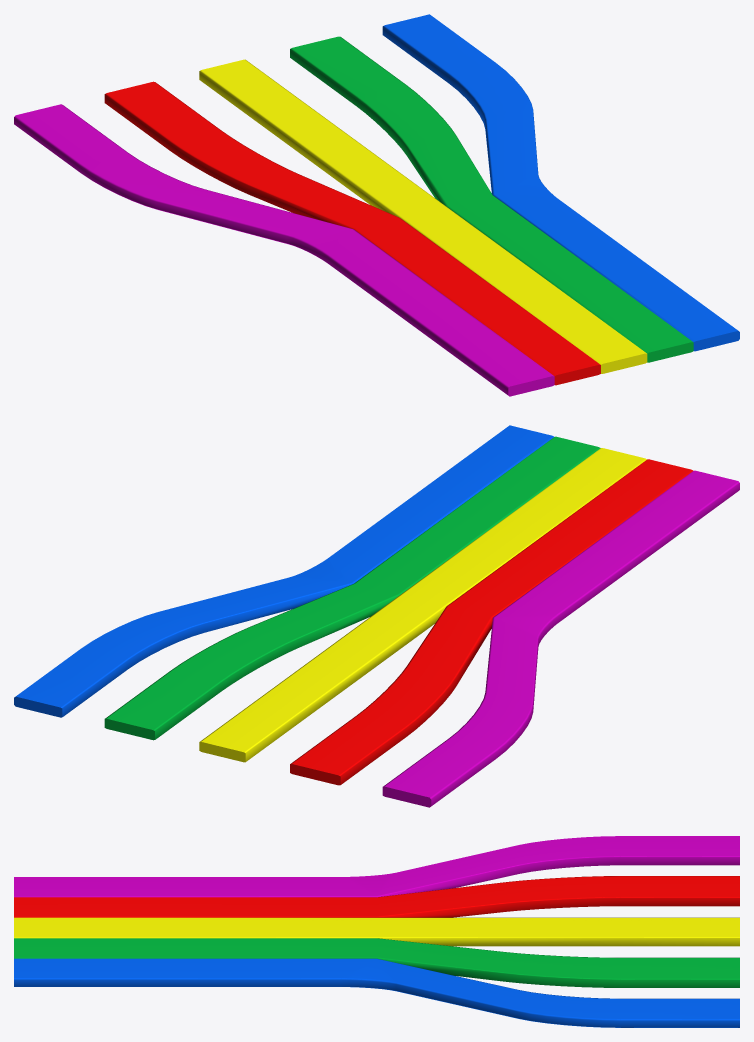
Rendered from platform_marmalade_003.glb.
3 renders of one model, top to bottom at view 1: azimuth 30°, elevation 25°; view 2: azimuth 150°, elevation 25°; view 3: azimuth 270°, elevation 25°, orthographic. The views are drawn at different scales.
Parts seen in each view (by area): view 1: platform_marmalade_003; view 2: platform_marmalade_003; view 3: platform_marmalade_003.
Boxes of the visible parts, x1,y1,x2,y2 form: platform_marmalade_003: [14, 14, 739, 396]; platform_marmalade_003: [14, 425, 739, 807]; platform_marmalade_003: [14, 836, 739, 1027].
Size of the model in its own units: 21.6 by 0.5 by 36.
1 material, 1 textured.
